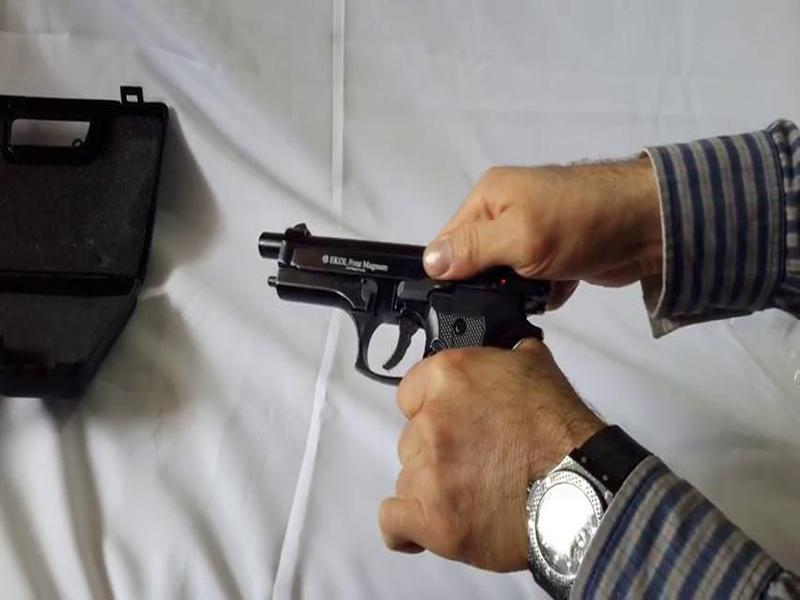Pistola: (223, 213, 568, 459)
